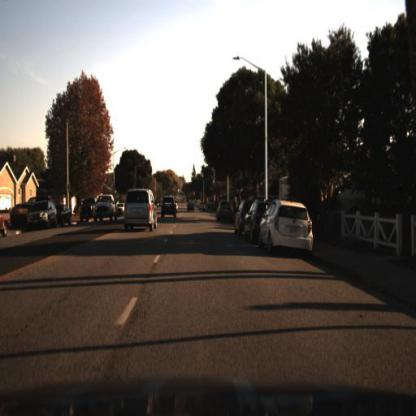car: (260, 199, 317, 261), (123, 186, 159, 235), (22, 198, 60, 233), (27, 200, 57, 230), (241, 199, 260, 244), (93, 193, 118, 224), (214, 196, 236, 228), (93, 195, 116, 222), (231, 199, 247, 237), (215, 199, 236, 226), (54, 203, 75, 226), (161, 195, 178, 221), (58, 202, 73, 228), (116, 200, 126, 219), (189, 200, 198, 216)
